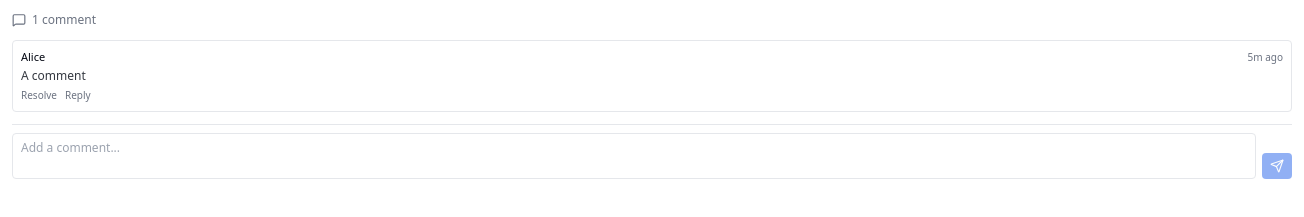
Test case: CommentsTab › reply button sets replyTo state and shows reply indicator
The width and height of the screenshot is (1304, 217).
Click the button with test id "reply-btn-c1": (78, 95) [65,88,91,102]
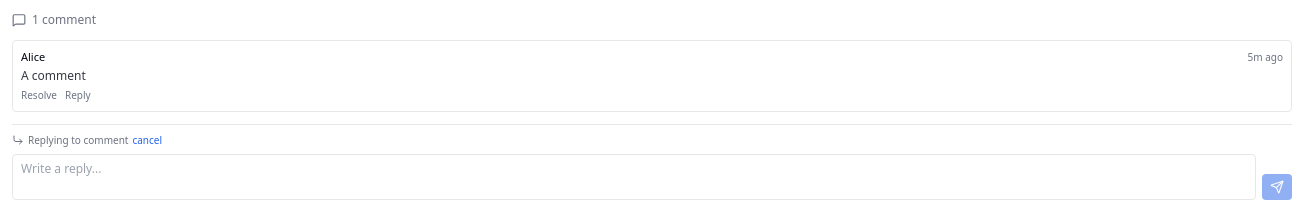
Check: the text "Replying to comment" is shown, box [28,132,128,148]
# Cancel reply
Click the button "cancel": (147, 140) [132,132,162,148]
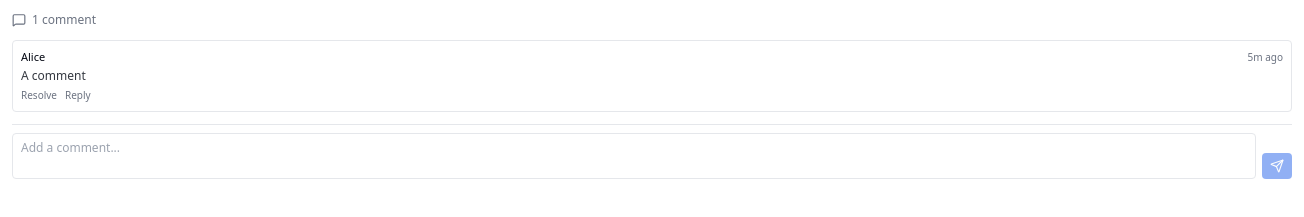
Check: the text "Replying to comment" is gone
